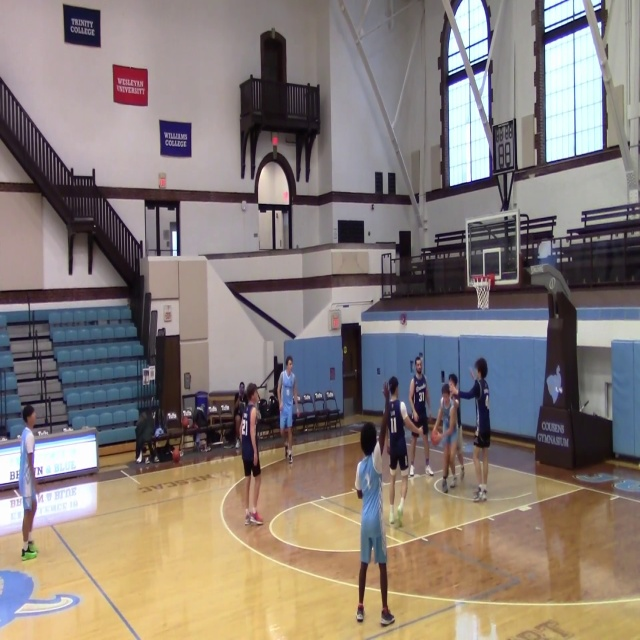Basketball: (431, 429, 441, 445), (172, 448, 181, 462), (181, 416, 191, 428), (356, 489, 363, 498)
